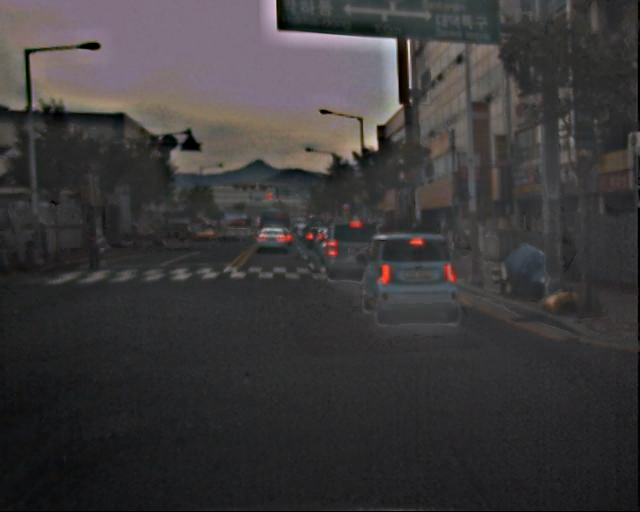person: (22, 220, 61, 258), (84, 228, 108, 274)
